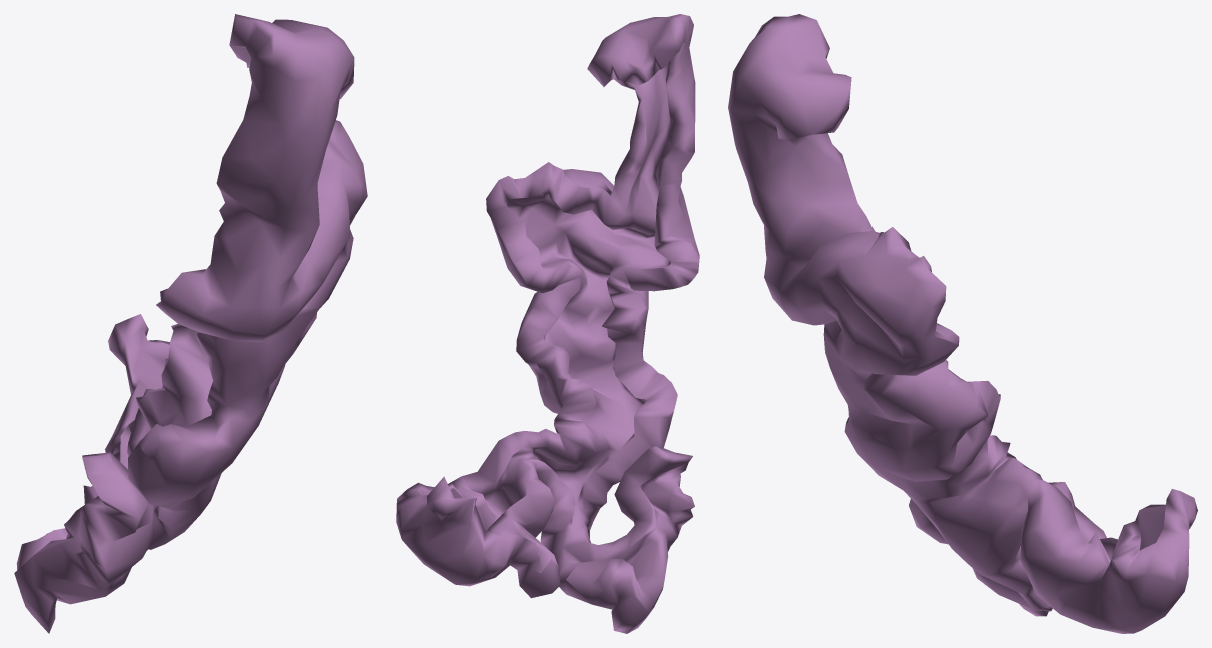
The picture shows the model from 3 angles, left to right: view 1: azimuth 30°, elevation 25°; view 2: azimuth 150°, elevation 25°; view 3: azimuth 270°, elevation 25°; orthographic projection. The views are drawn at different scales.
Parts seen in each view (by area): view 1: 左侧额中回; view 2: 左侧额中回; view 3: 左侧额中回.
Boxes of the visible parts, bbox=[...] form: 左侧额中回: bbox=[14, 14, 367, 633]; 左侧额中回: bbox=[396, 14, 699, 633]; 左侧额中回: bbox=[728, 14, 1197, 633].
Size of the model in its own units: 0.0579 by 0.134 by 0.0907.
